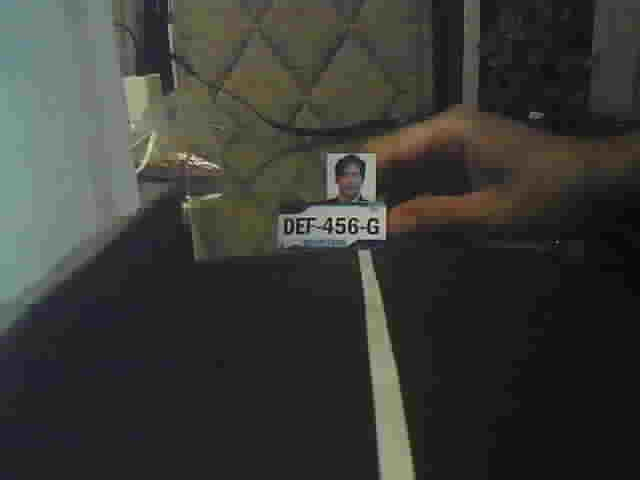PLACA: (275, 201, 388, 252)
ROSTRO: (326, 153, 377, 203)
